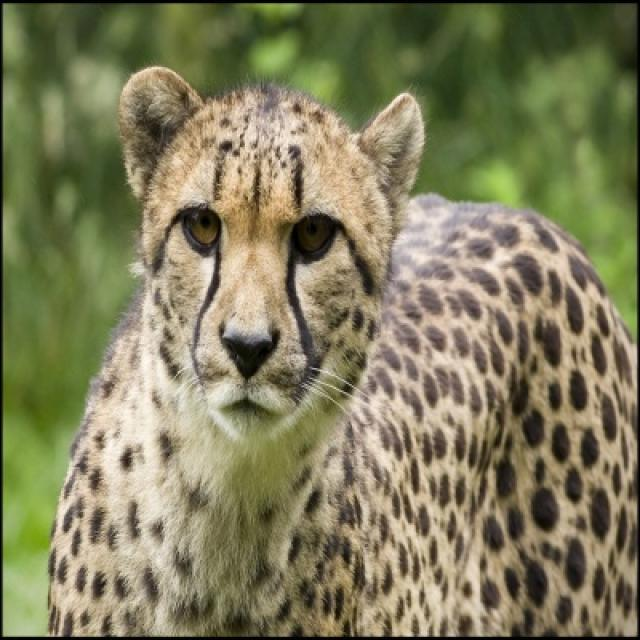Cheetah: (48, 67, 635, 635)
